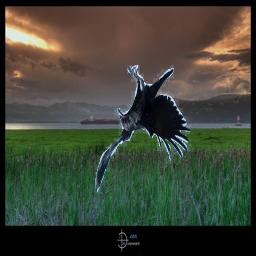Crow: (95, 64, 191, 194)
